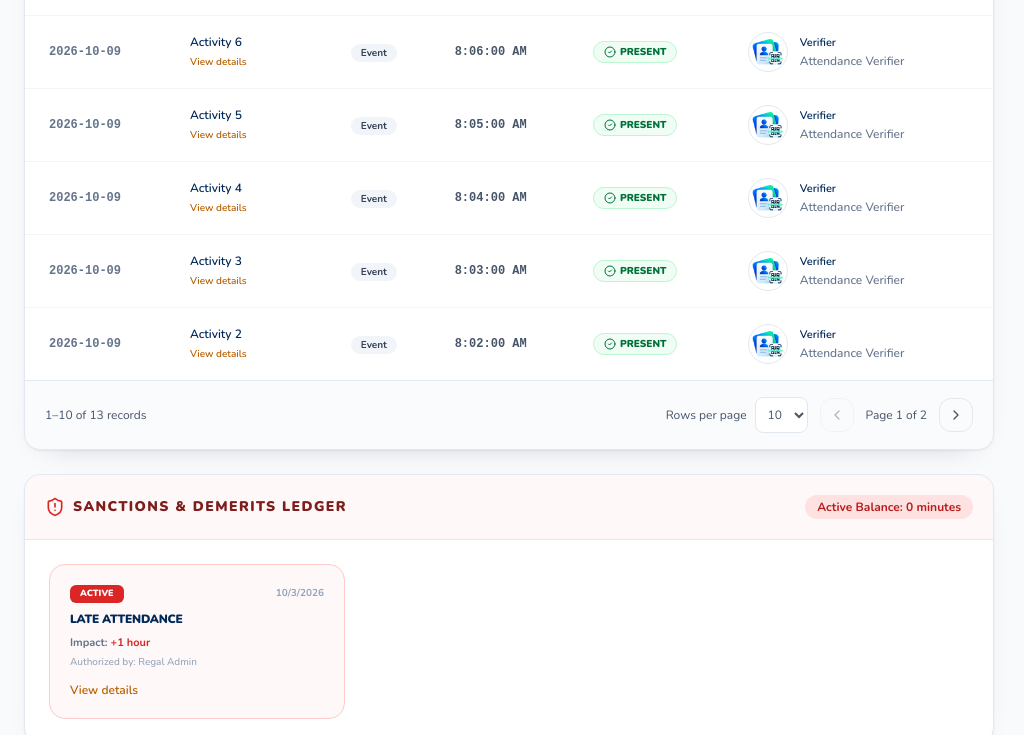
Test: sorts newest first, paginates both layouts and resets the page when searching
(page scrolled)
Click the button named "Next page". click: click(956, 415)
box: [939,398,973,432]
(page scrolled)
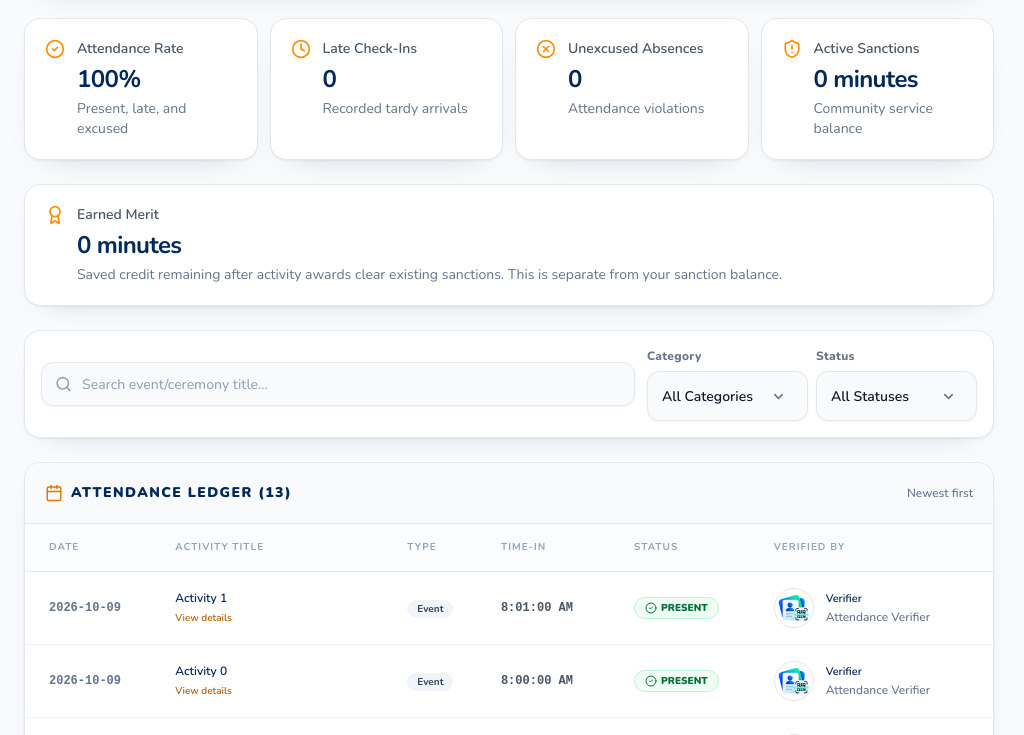
Type "Activity 11" into the search field named "Search attendance records". click: (338, 384)
box: [41,362,635,406]
(page scrolled)
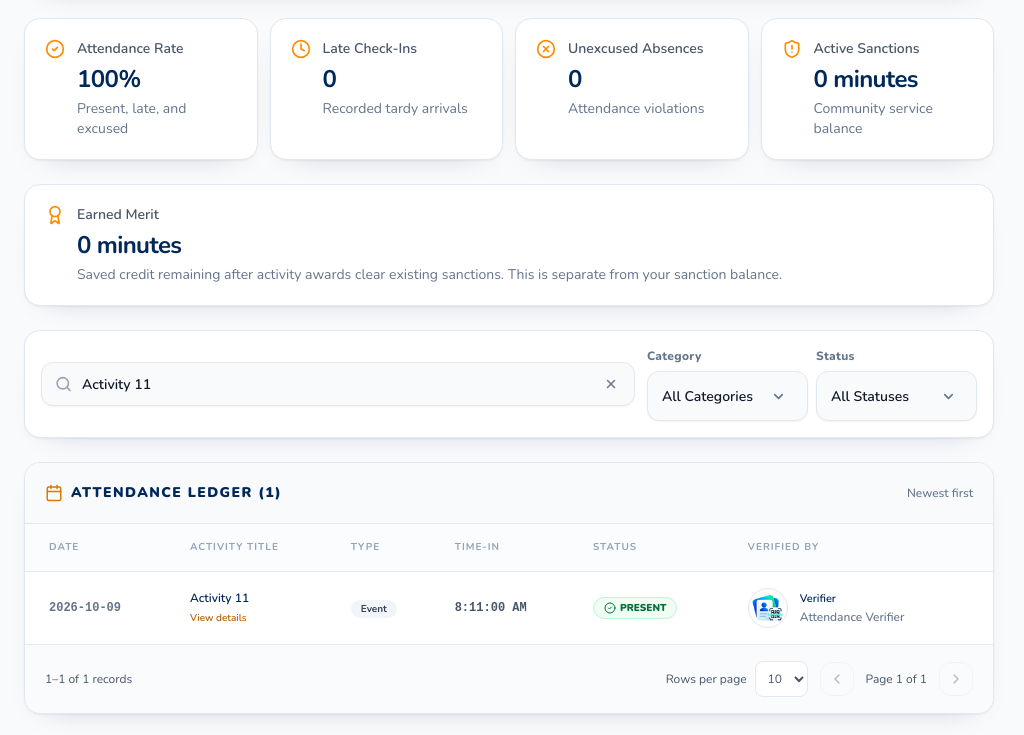
Expected: the number of rows is 2, [25,524,993,572]; [25,572,993,644]
Expected: the text "Page 1 of 1" is shown, [866,671,927,687]
